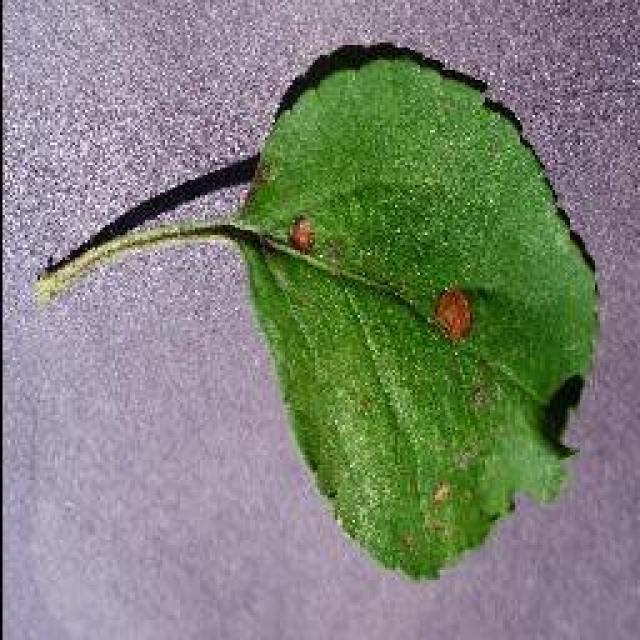apple black rot: (32, 38, 602, 582)
